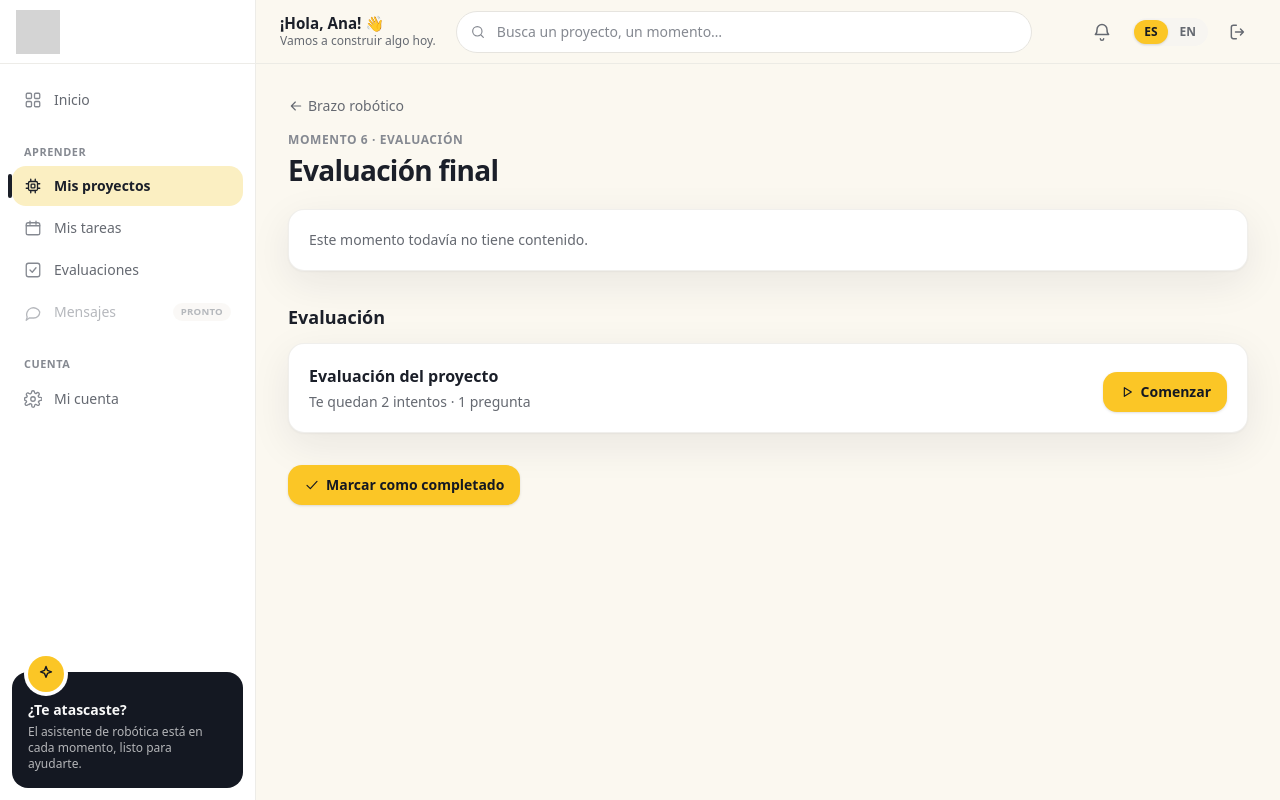
Scenario: Panel del estudiante › la evaluación se responde y se envía
This screenshot has width=1280, height=800.
Click the button "Comenzar" at x=1165, y=392, box [1102,372,1227,412]
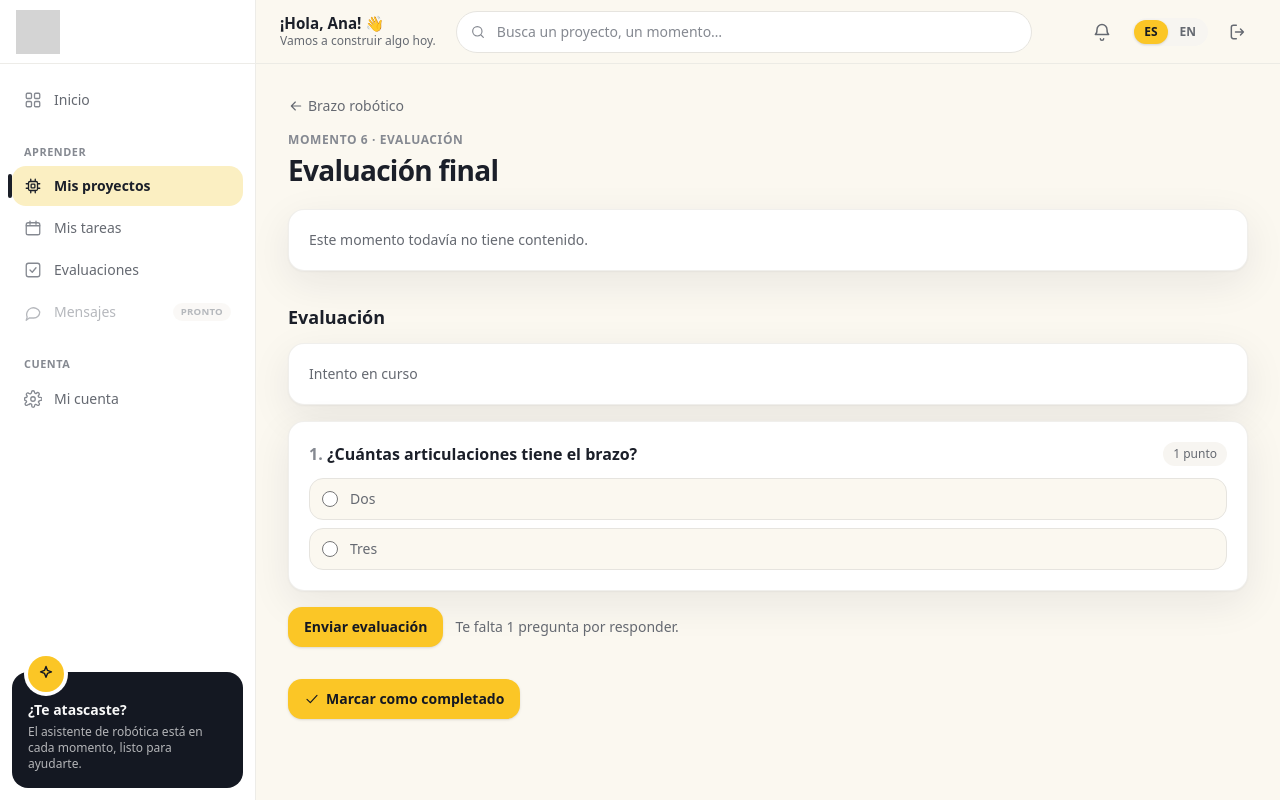
Click the radio button labelled "Tres" at x=330, y=549, box [322,541,338,557]
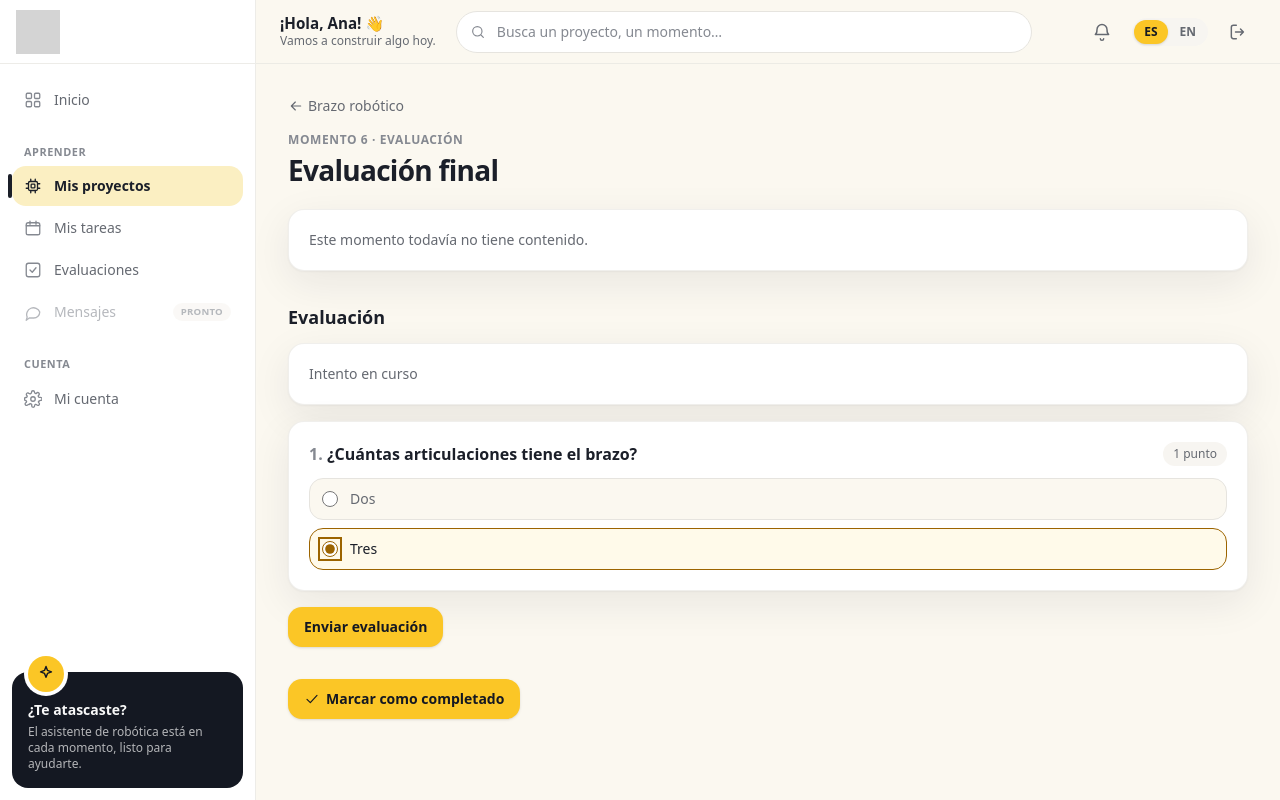
Click the button "Enviar evaluación" at x=366, y=627, box [288,607,443,647]
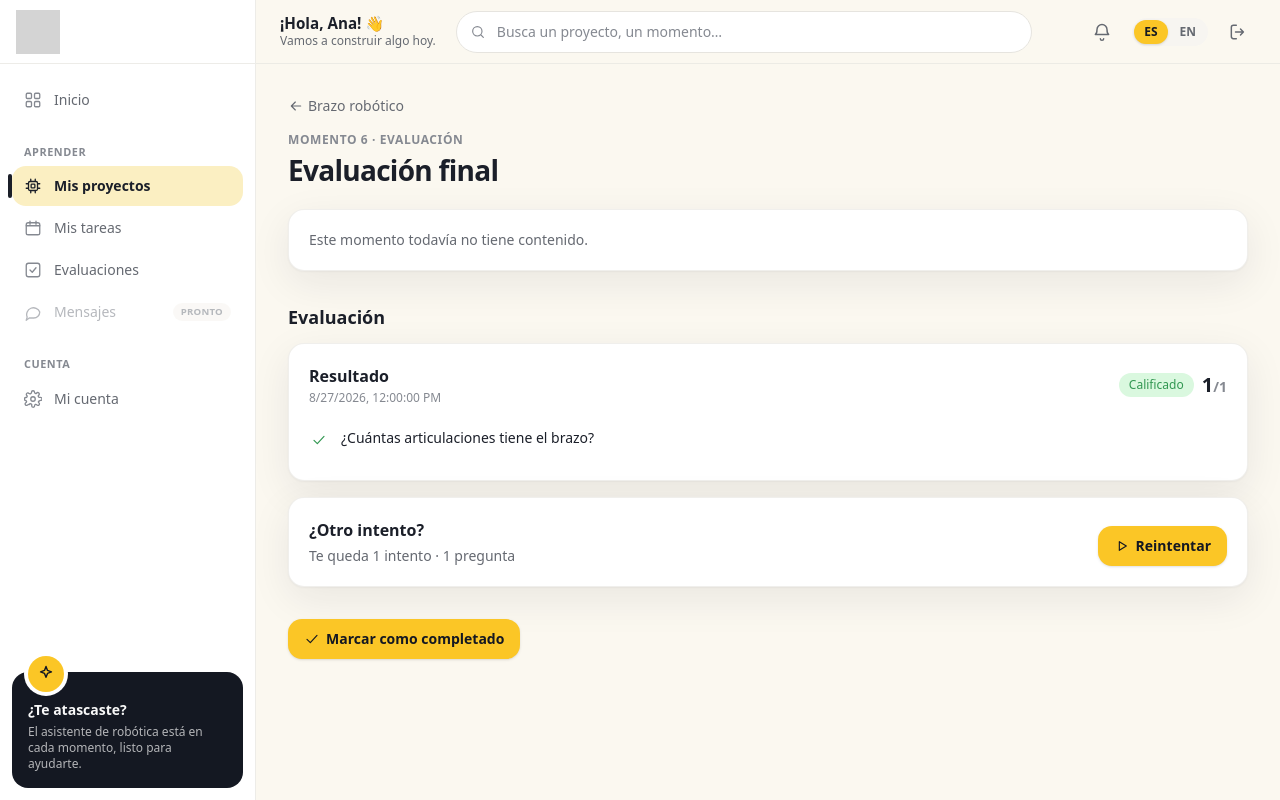
Now the text "Resultado" is shown, box [309,365,389,387]
